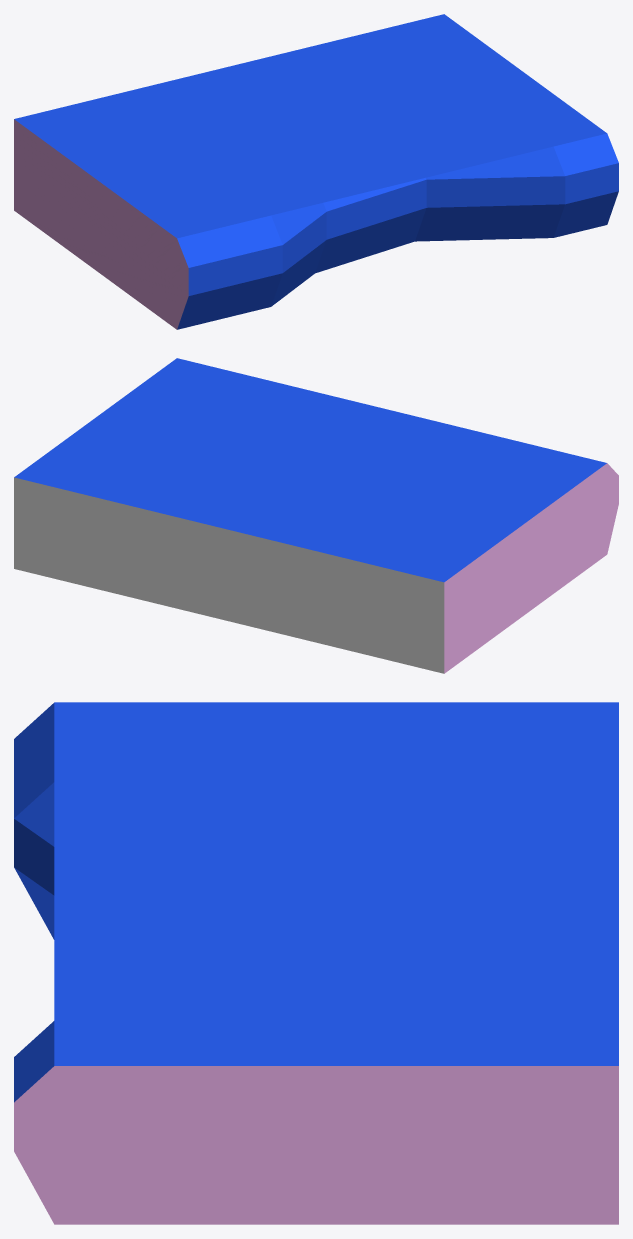
The model's file is Iceberg_Straight_2x2_3.glb.
The picture shows the model from 3 angles, top to bottom: view 1: azimuth 30°, elevation 25°; view 2: azimuth 150°, elevation 25°; view 3: azimuth 270°, elevation 25°; orthographic projection. The views are drawn at different scales.
Parts seen in each view (by area): view 1: Iceberg_Straight_2x2_3; view 2: Iceberg_Straight_2x2_3; view 3: Iceberg_Straight_2x2_3.
Part boxes in pixels (<box>): Iceberg_Straight_2x2_3: <box>14,14,618,329</box>; Iceberg_Straight_2x2_3: <box>14,358,618,673</box>; Iceberg_Straight_2x2_3: <box>14,702,618,1224</box>.
Bounding box in the file's own units: 200 × 40.62 × 141.
